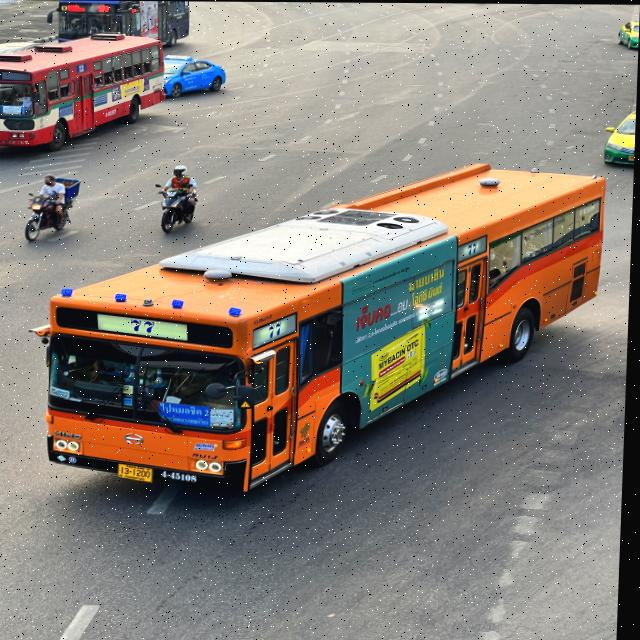BMTA-bus: (33, 161, 611, 495)
Bus-Line-Number: (121, 313, 169, 338), (264, 320, 289, 338), (467, 241, 483, 254)
Destination-Sign-Normal: (161, 400, 214, 429)
